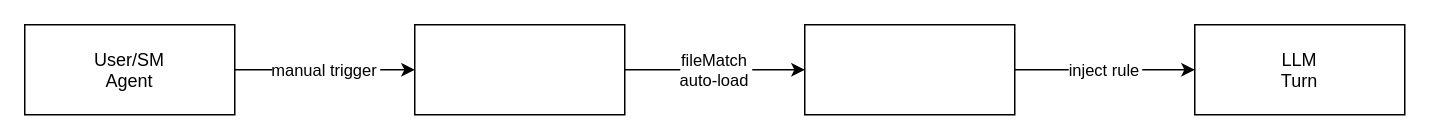
Image size: 1430x140. Some labels were removed from this diagram. Each missing label, with the centre of its shape:
LangGraph Engine: point (519, 69)
Steering Loader: point (909, 69)
